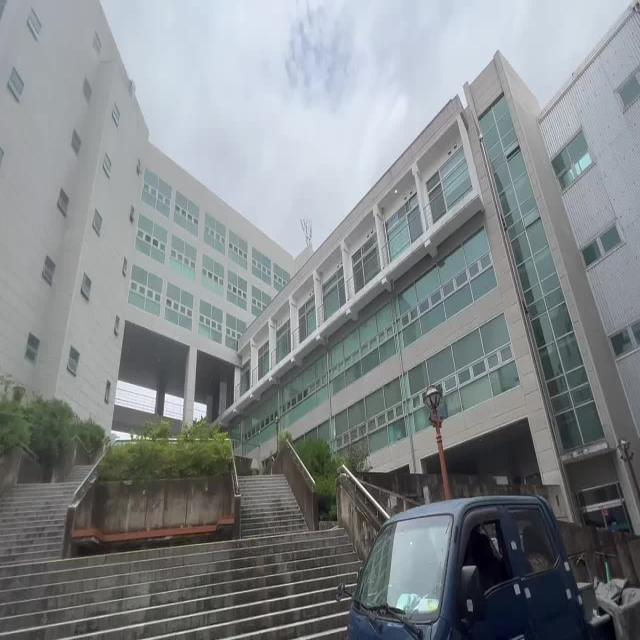building: (15, 44, 632, 442)
